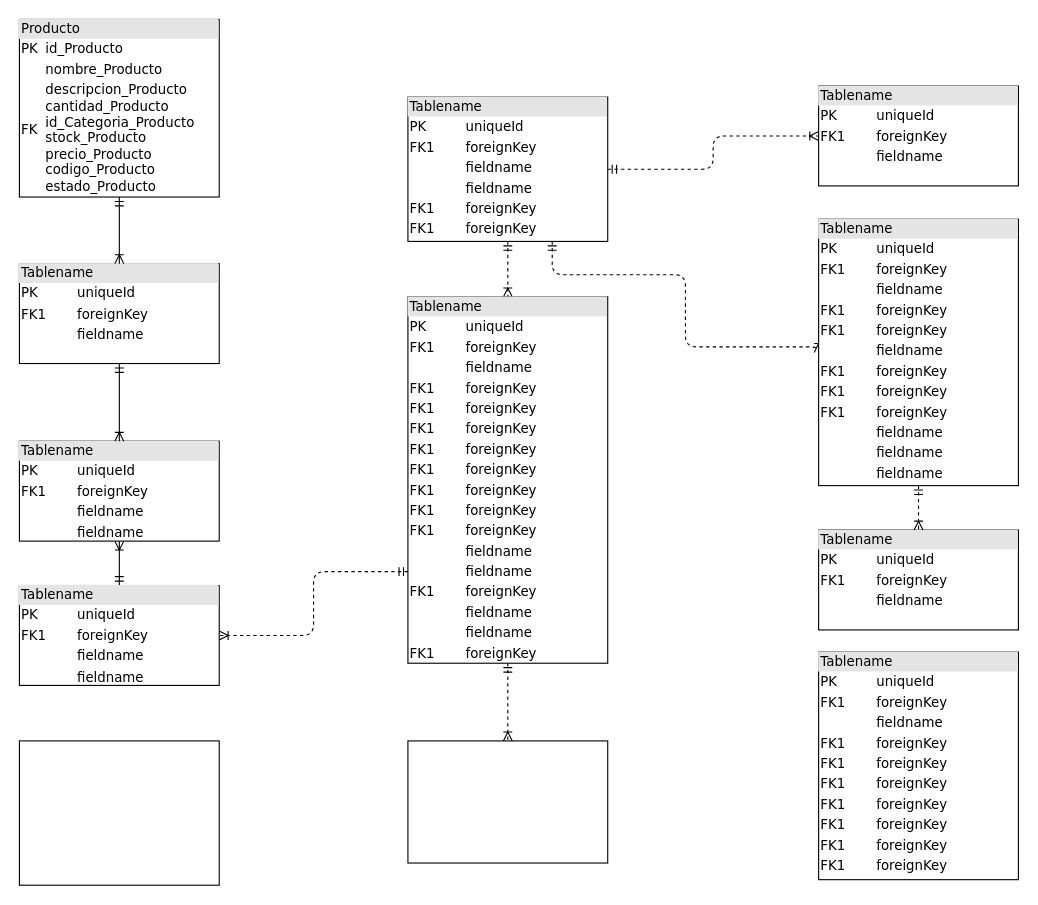
Some shapes in this 1038 by 905 pixel diagram are drawn without their labels. The centre of each missing label's shape, as x and y in pixels:
Tablename PK uniqueId FK1 foreignKey fieldname fieldname fieldname fieldname: pixel 118 812
Tablename PK uniqueId FK1 foreignKey fieldname fieldname FK1 foreignKey: pixel 507 801
